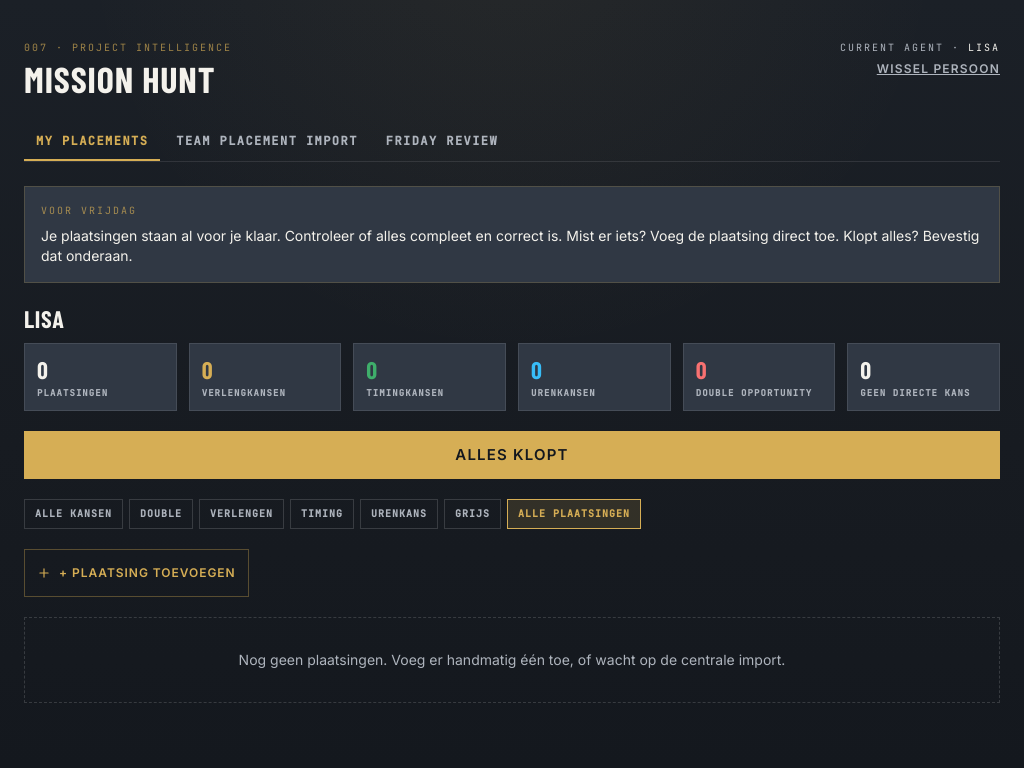
MissionHuntPage — remembered person on this device › 6. WISSEL PERSOON returns to WIE BEN JIJ? and forgets the remembered person
This screenshot has width=1024, height=768.
Expected: the text "Lisa" next to "Current Agent ·" is shown, [968,41,1000,54]
Click the button "Wissel persoon".
click(938, 69)  # box [877,61,1000,77]
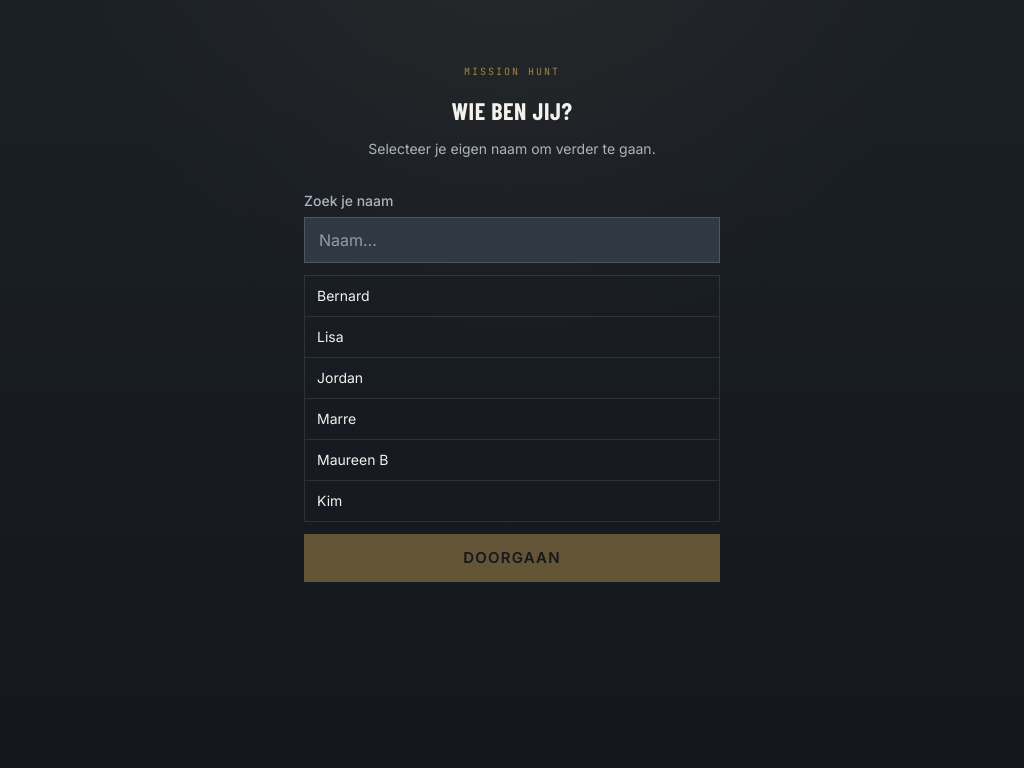
Expected: the heading "Wie ben jij?" is shown, [451,96,572,125]
